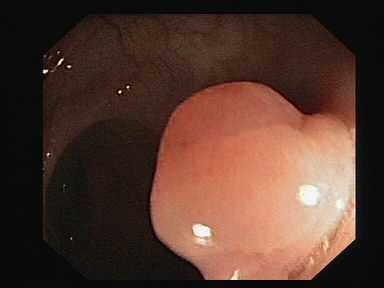polyp: (136, 65, 354, 277)
